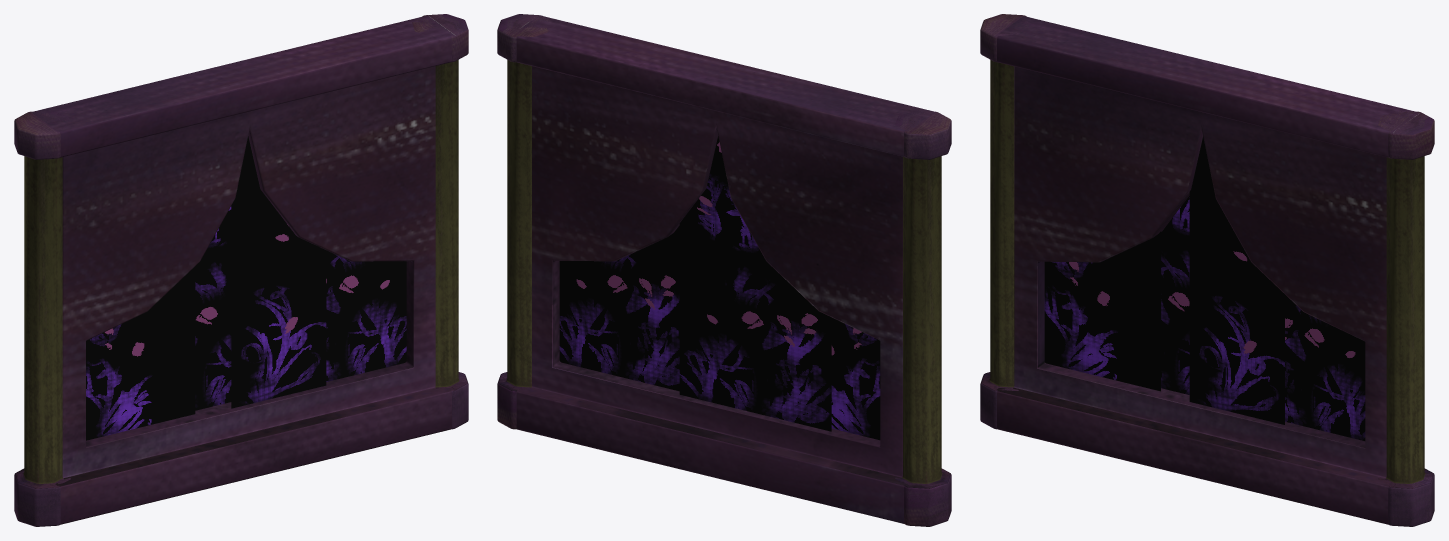
File: MANOR_WINDOW_3.obj
3 views of the same model, side by side, from view 1: azimuth 30°, elevation 25°; view 2: azimuth 150°, elevation 25°; view 3: azimuth 330°, elevation 25° (orthographic).
Visible parts, largest first — view 1: MANOR_WINDOW_3.001; view 2: MANOR_WINDOW_3.001; view 3: MANOR_WINDOW_3.001.
Boxes of the visible parts, x1,y1,x2,y2 form: MANOR_WINDOW_3.001: (14, 14, 468, 526); MANOR_WINDOW_3.001: (497, 14, 951, 526); MANOR_WINDOW_3.001: (980, 14, 1434, 526).
Bounding box in the file's own units: 3.57 × 3 × 0.4135.
